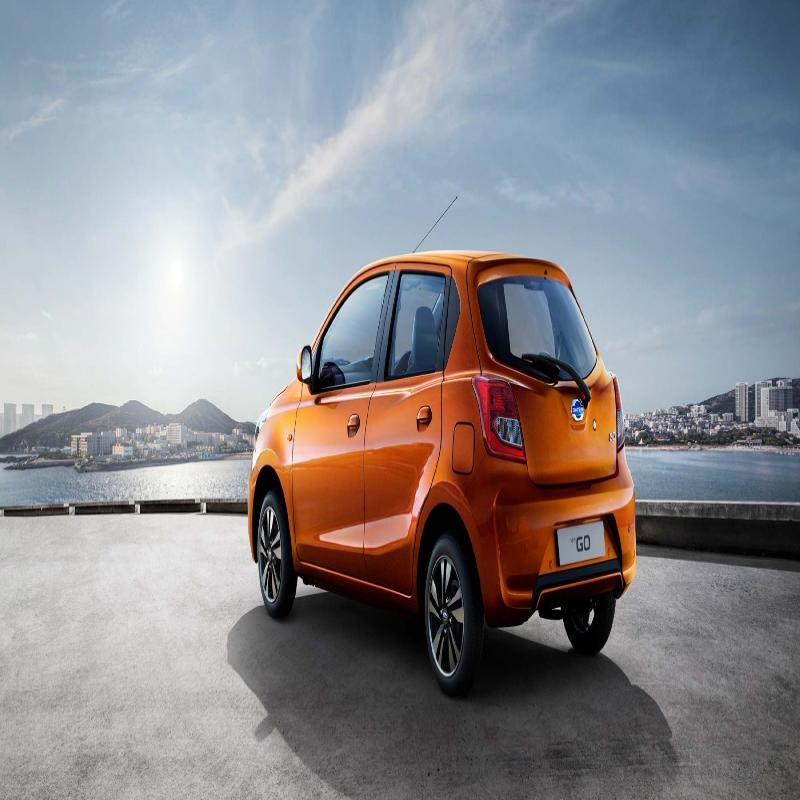car: (243, 244, 638, 742)
